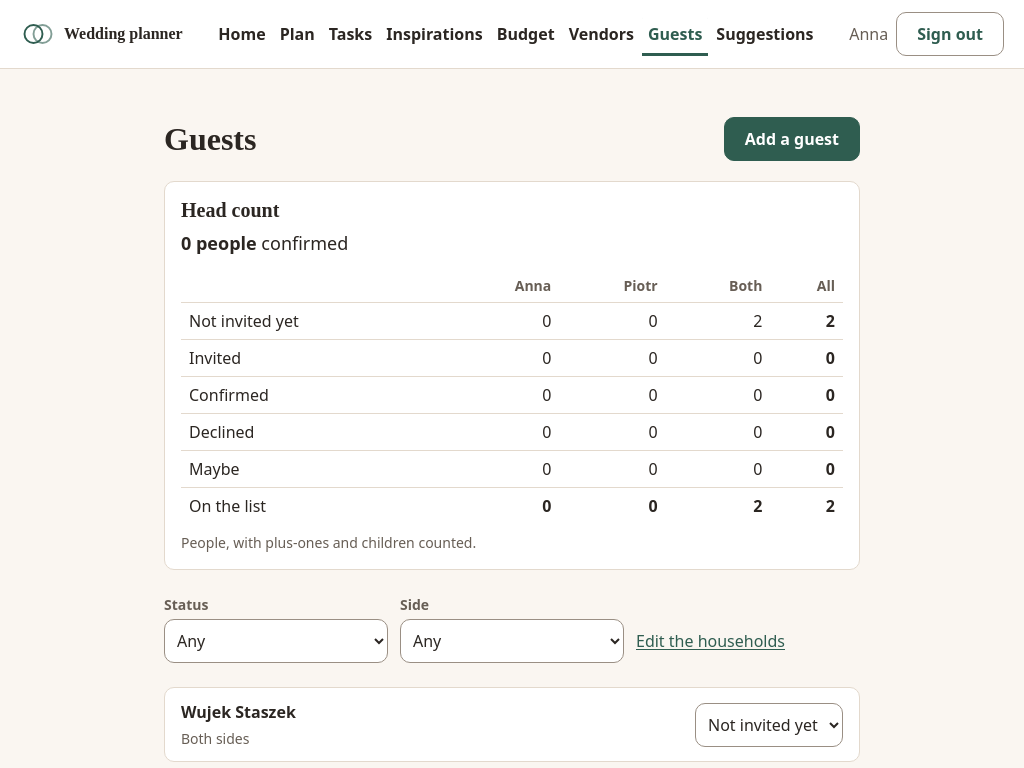
the guest list › shows one plain list while there are no households, and says so when nobody matches or nobody is there
Check: the link "Wujek Staszek" is shown, box [181, 701, 296, 723]
Select "Declined" in the dropdown labelled "Status" at (276, 641), box [164, 619, 388, 663]
(page scrolled)
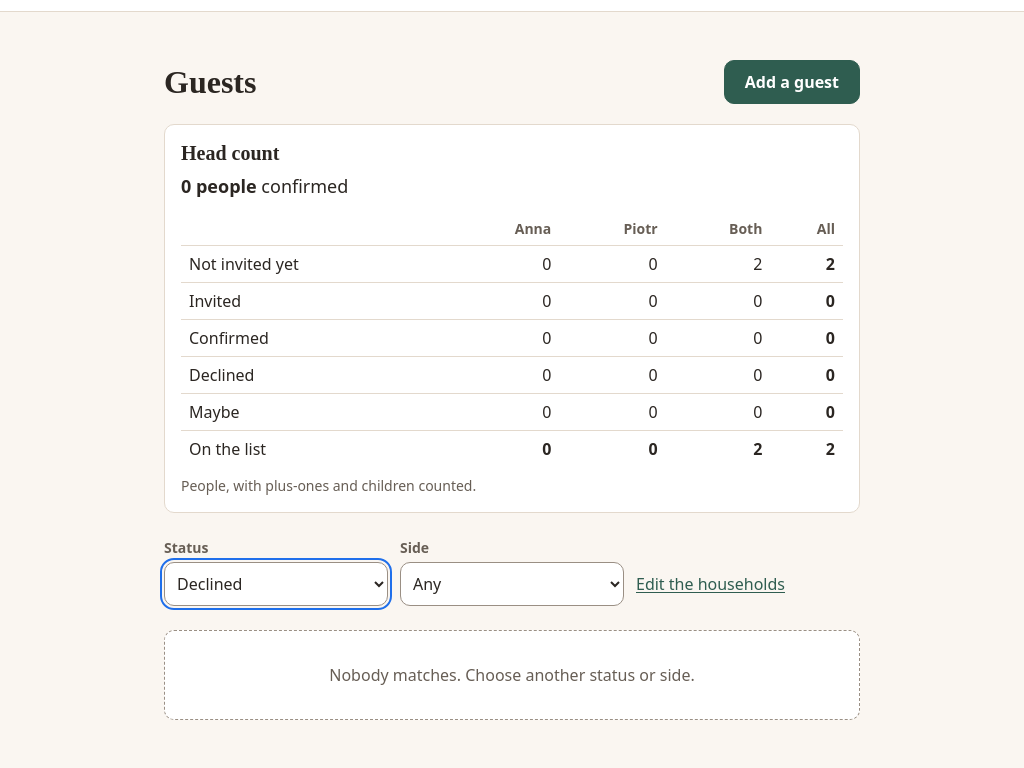
Check: the text "Nobody matches. Choose another status or side." is shown, box [164, 630, 860, 720]
